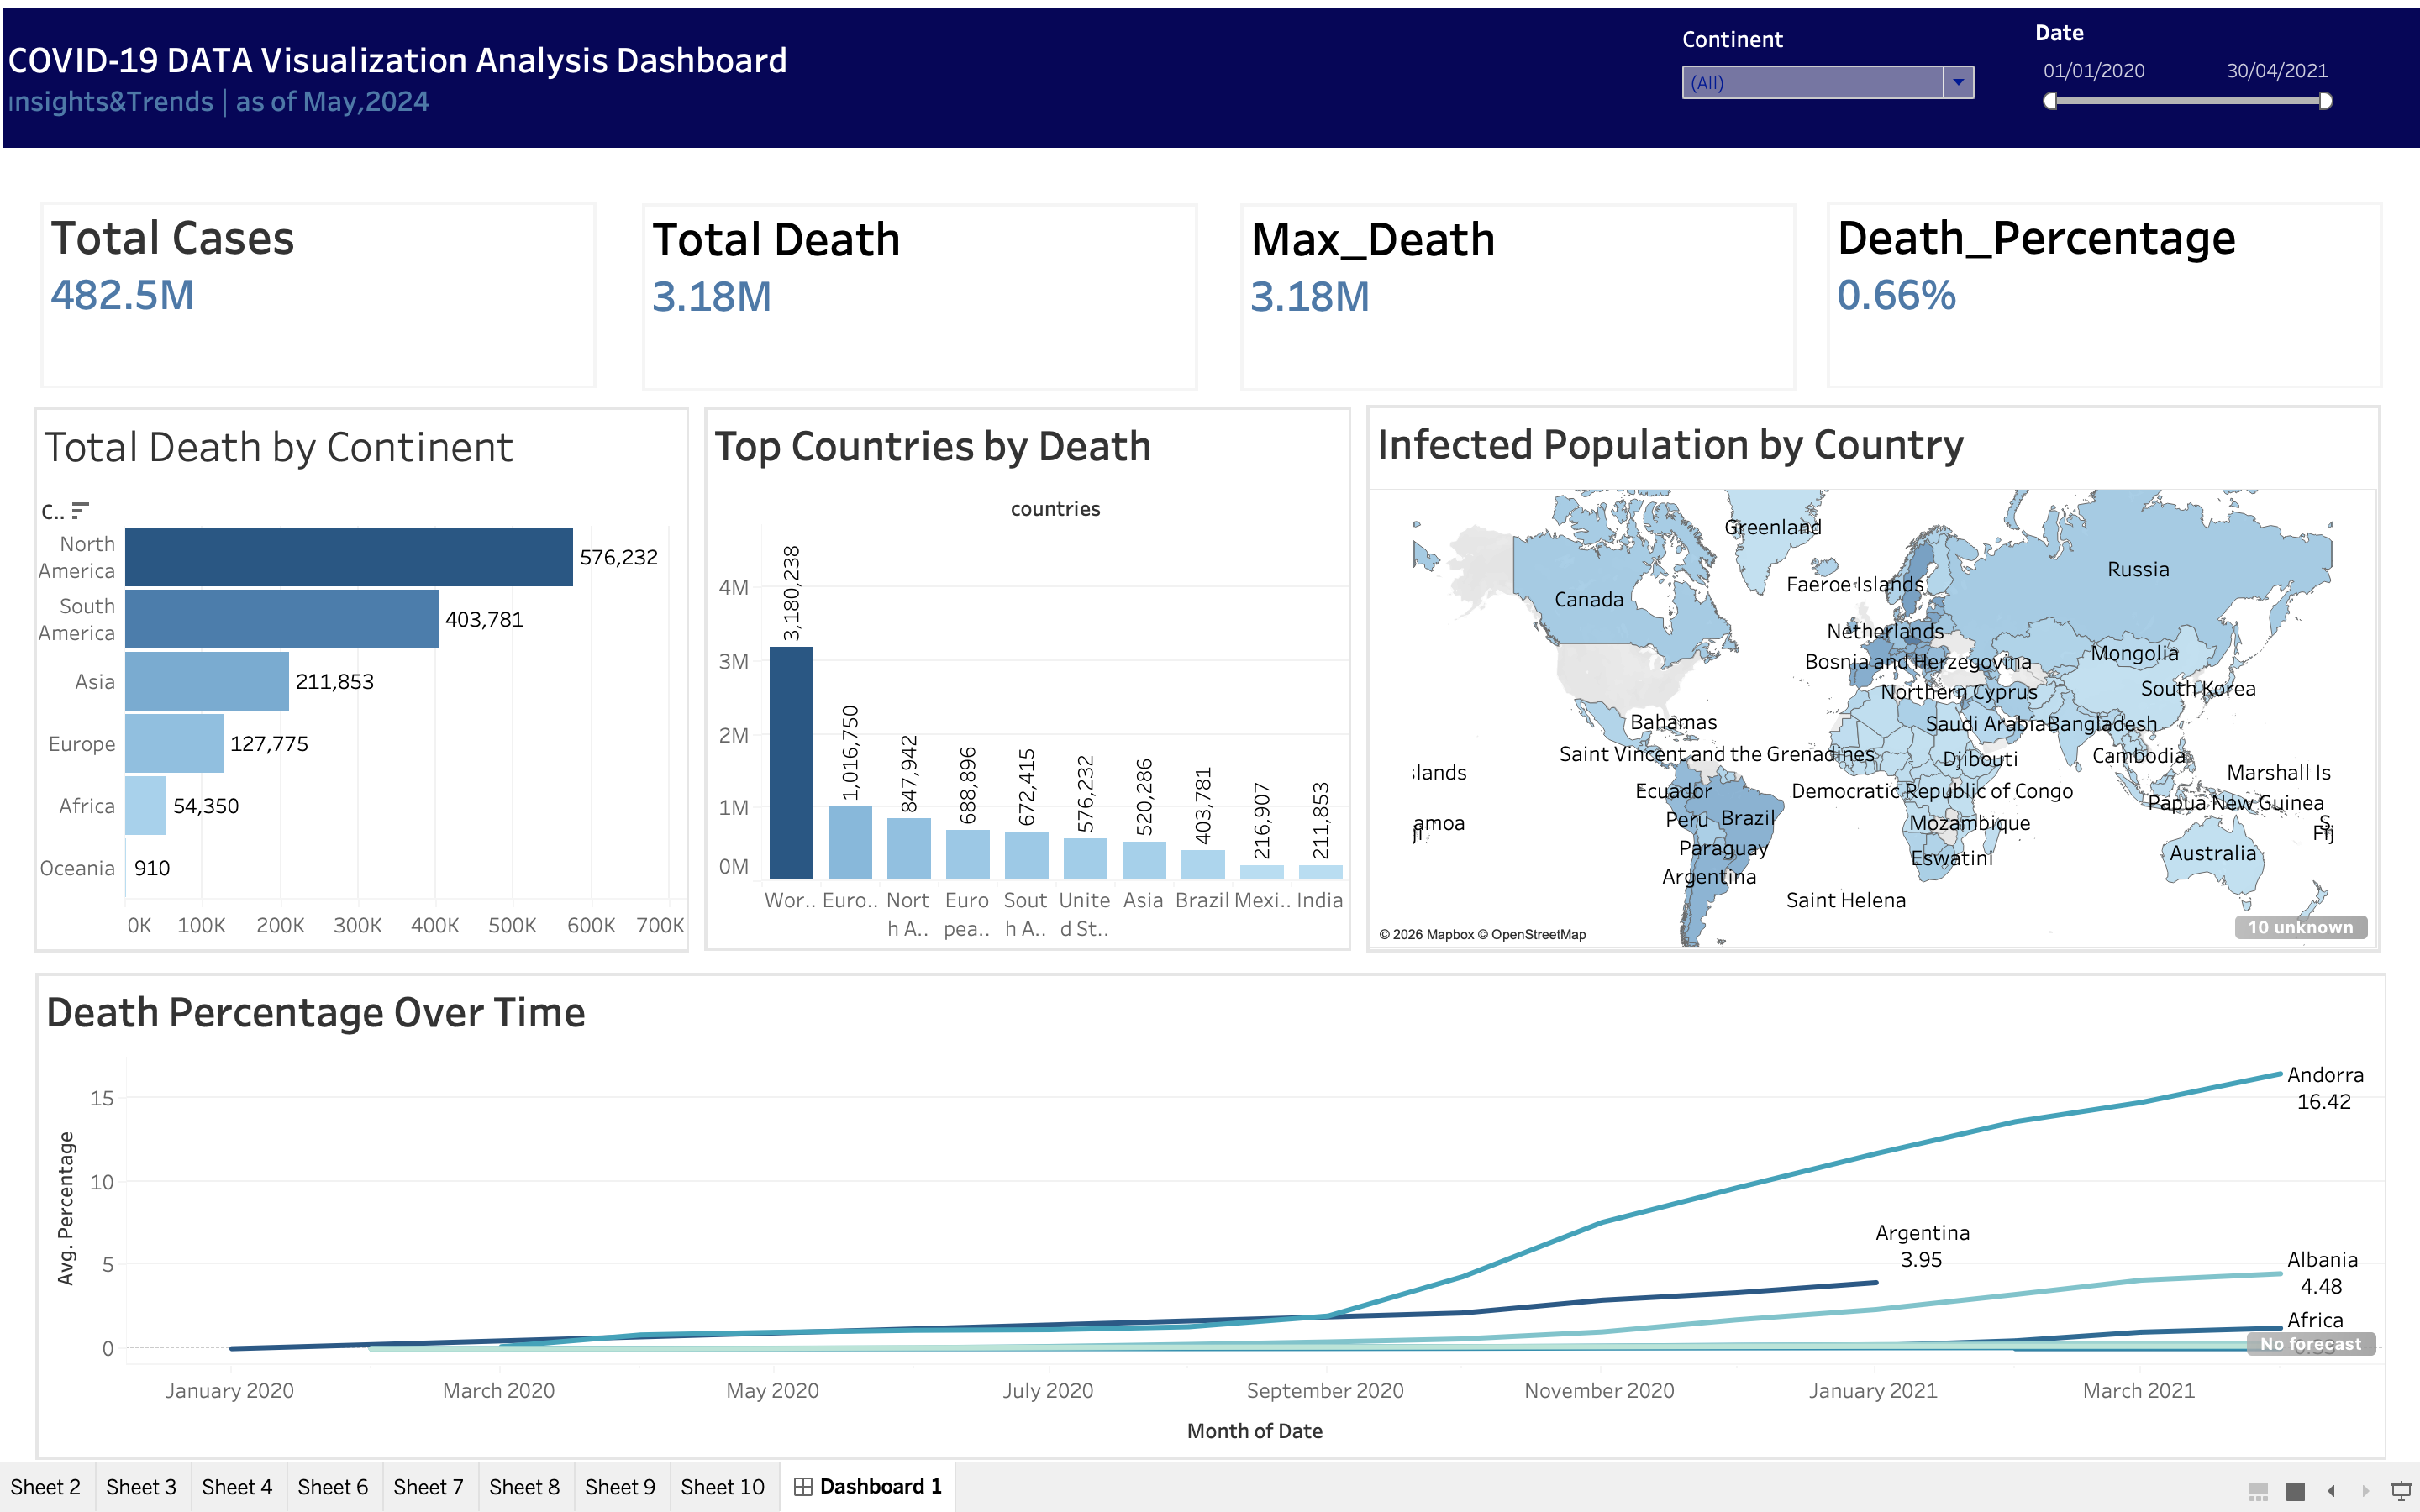

This screenshot's page, from the dashboard's own definition file:
{"tool":"tableau","page":{"name":"Dashboard 1","canvas":[1000,1000],"units":"permille","ordinal":0},"visuals":[{"type":"text","box":[1.7,5.7,999.1,95]},{"type":"filter","title":"Sheet 6","param":"[federated.1rwt6p31s8r1pu16rfykx1pd752n].[none:continent:nk]","box":[692.4,11.1,126.2,84.2]},{"type":"filter","title":"Sheet 8","param":"[federated.098srac0etidhp15q5o3l1lmckov].[none:date:qk]","box":[840.7,11.1,126.2,85.4]},{"type":"worksheet","title":"Sheet 9","mark":"Automatic","box":[17,137.4,229.6,128.7]},{"type":"worksheet","title":"Sheet 4","mark":"Automatic","box":[755.1,137.4,229.6,128.7]},{"type":"worksheet","title":"Sheet 2","mark":"Automatic","box":[265.3,138.6,229.6,128.7]},{"type":"worksheet","title":"Sheet 3","mark":"Automatic","box":[512.8,138.6,229.6,128.7]},{"type":"worksheet","title":"Sheet 7","mark":"Automatic","box":[564.6,277.2,419.2,375]},{"type":"worksheet","title":"Sheet 6","mark":"Automatic","rows":["continent"],"cols":["thetotalDeath"],"box":[13.7,278.5,271.3,373.8]},{"type":"worksheet","title":"Sheet 10","mark":"Automatic","rows":["thetotalDeath"],"cols":["location"],"box":[290.8,278.5,267.9,372.5]},{"type":"worksheet","title":"Sheet 8","mark":"Automatic","rows":["percentage"],"cols":["date"],"box":[14.5,665.8,971.9,332.9]}]}

Visuals, with their boxes on the dashboard's canvas, which has no fixed pixel size, in thousandths of its width and height (x1, y1, x2, y2). These are canvas units, not pixel positions in the 2420x1512 screenshot, which may show the page scaled, cropped or inside an application window:
text: box=[2, 6, 1001, 101]
"Sheet 6" filter: box=[692, 11, 819, 95]
"Sheet 8" filter: box=[841, 11, 967, 96]
"Sheet 9" worksheet: box=[17, 137, 247, 266]
"Sheet 4" worksheet: box=[755, 137, 985, 266]
"Sheet 2" worksheet: box=[265, 139, 495, 267]
"Sheet 3" worksheet: box=[513, 139, 742, 267]
"Sheet 7" worksheet: box=[565, 277, 984, 652]
"Sheet 6" worksheet: box=[14, 278, 285, 652]
"Sheet 10" worksheet: box=[291, 278, 559, 651]
"Sheet 8" worksheet: box=[14, 666, 986, 999]
